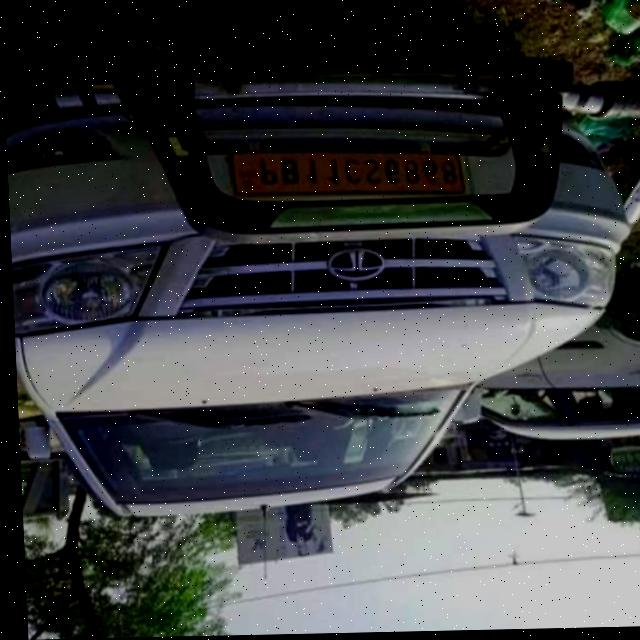plate: (224, 144, 471, 216)
